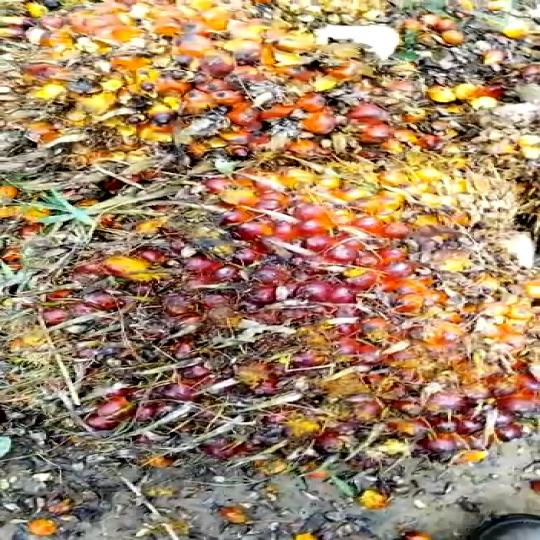masak: (11, 159, 540, 488), (0, 2, 540, 228)
